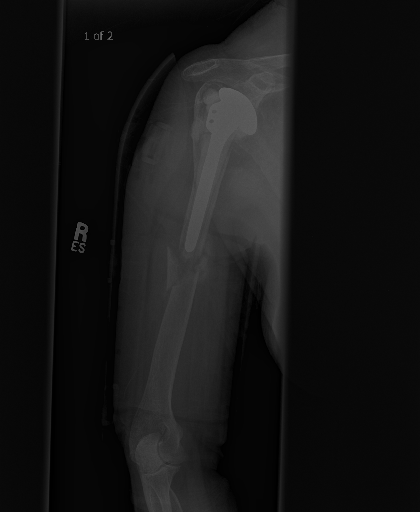implant: (184, 75, 259, 267)
